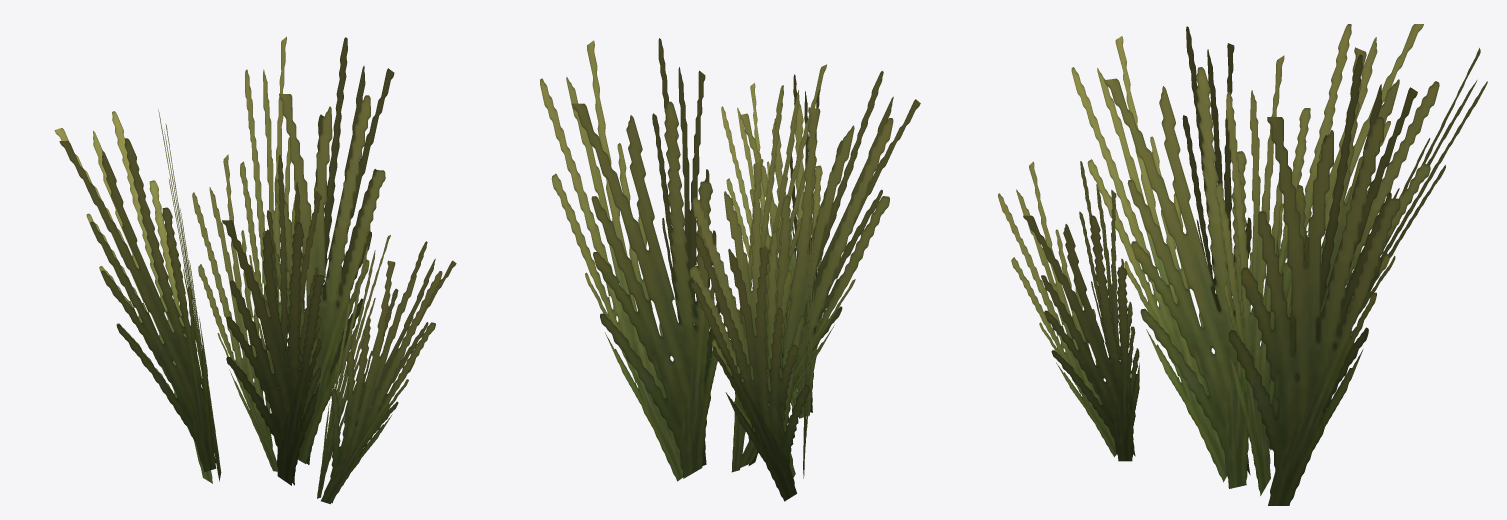
Rendered from C1SNREEDS.obj.
3 views of the same model, side by side, from view 1: azimuth 30°, elevation 25°; view 2: azimuth 150°, elevation 25°; view 3: azimuth 270°, elevation 25° (orthographic). The views are drawn at different scales.
Visible parts, largest first — view 1: Node 0; view 2: Node 0; view 3: Node 0.
Part boxes in pixels (x1,y1,x2,y2): Node 0: [54, 36, 456, 504]; Node 0: [540, 38, 920, 501]; Node 0: [998, 24, 1487, 505].
Size of the model in its own units: 2.17 by 2.67 by 2.83.
